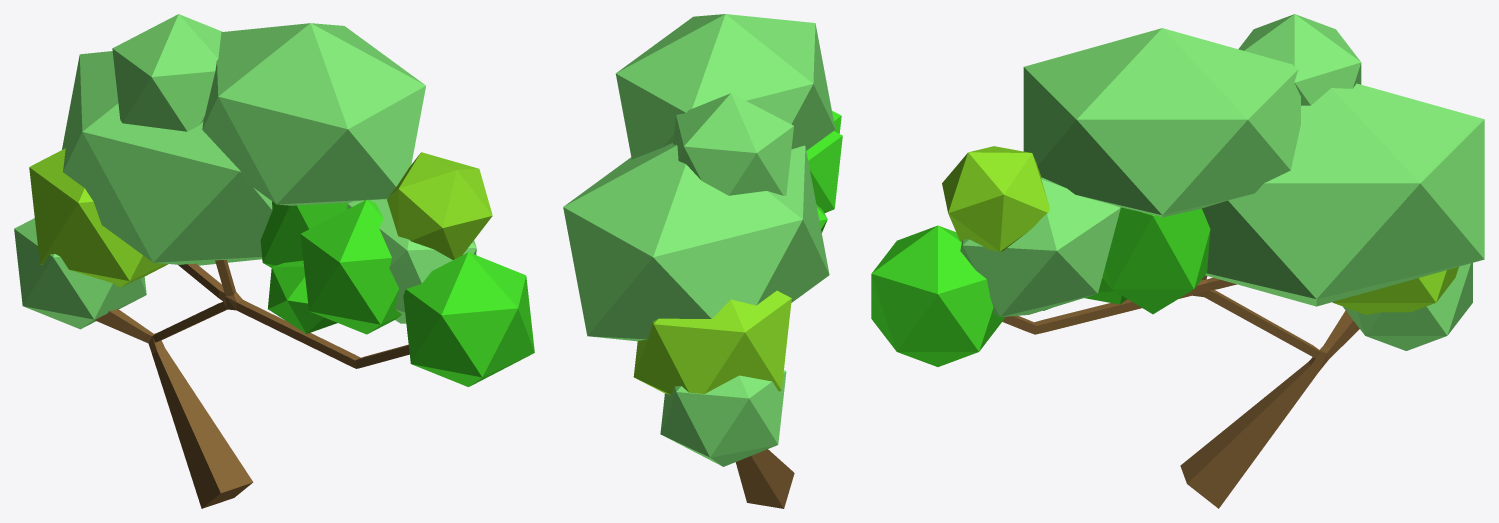
Rendered from TREE.fbx.
The picture shows the model from 3 angles, left to right: view 1: azimuth 30°, elevation 25°; view 2: azimuth 150°, elevation 25°; view 3: azimuth 270°, elevation 25°; orthographic projection. The views are drawn at different scales.
Visible parts, largest first — view 1: Icosphere.007, Icosphere.008, Icosphere, Cube.001, Icosphere.003, Icosphere.010, Icosphere.001, Icosphere.002, Icosphere.004, Icosphere.006, Icosphere.009, Icosphere.005; view 2: Icosphere.008, Icosphere.007, Icosphere.001, Icosphere.003, Icosphere.004, Cube.001, Icosphere.010; view 3: Icosphere.008, Icosphere.007, Icosphere, Icosphere.006, Cube.001, Icosphere.009, Icosphere.002, Icosphere.003, Icosphere.004, Icosphere.001.
Part boxes in pixels (x1,y1,x2,y2): Icosphere.007: (202,23,425,205); Icosphere.008: (62,51,272,265); Icosphere: (403,252,534,386); Cube.001: (95,260,409,508); Icosphere.003: (112,14,222,131); Icosphere.010: (300,200,401,334); Icosphere.001: (29,148,168,287); Icosphere.002: (387,152,492,259); Icosphere.004: (14,218,146,329); Icosphere.006: (347,199,476,323); Icosphere.009: (260,201,347,267); Icosphere.005: (268,260,337,333); Icosphere.008: (563,143,829,341); Icosphere.007: (615,14,835,159); Icosphere.001: (633,290,791,394); Icosphere.003: (673,93,793,195); Icosphere.004: (660,370,786,466); Cube.001: (735,449,794,508); Icosphere.010: (806,131,842,213); Icosphere.008: (1202,83,1484,306); Icosphere.007: (1023,28,1300,217); Icosphere: (871,225,1004,366); Icosphere.006: (960,177,1120,316); Cube.001: (1002,275,1359,508); Icosphere.009: (1102,207,1210,314); Icosphere.002: (942,146,1049,251); Icosphere.003: (1238,14,1361,105); Icosphere.004: (1343,263,1472,350); Icosphere.001: (1332,267,1458,314).
Bounding box in the file's own units: 434 × 714 × 784.
